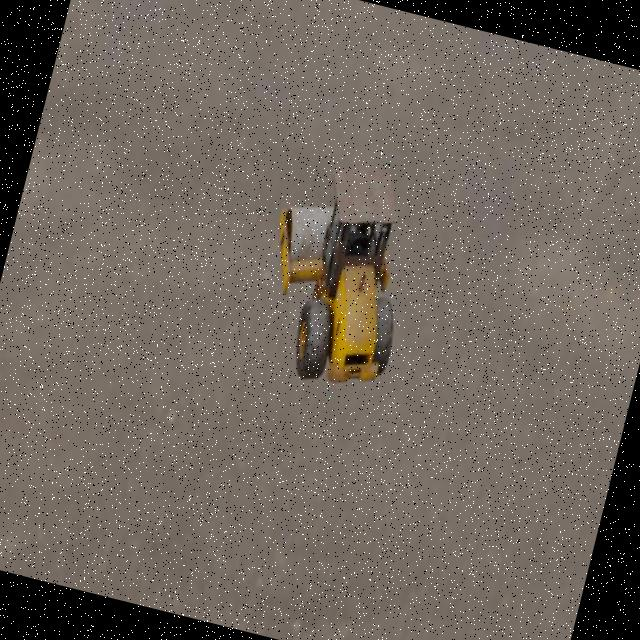Roller: (242, 148, 432, 399)
